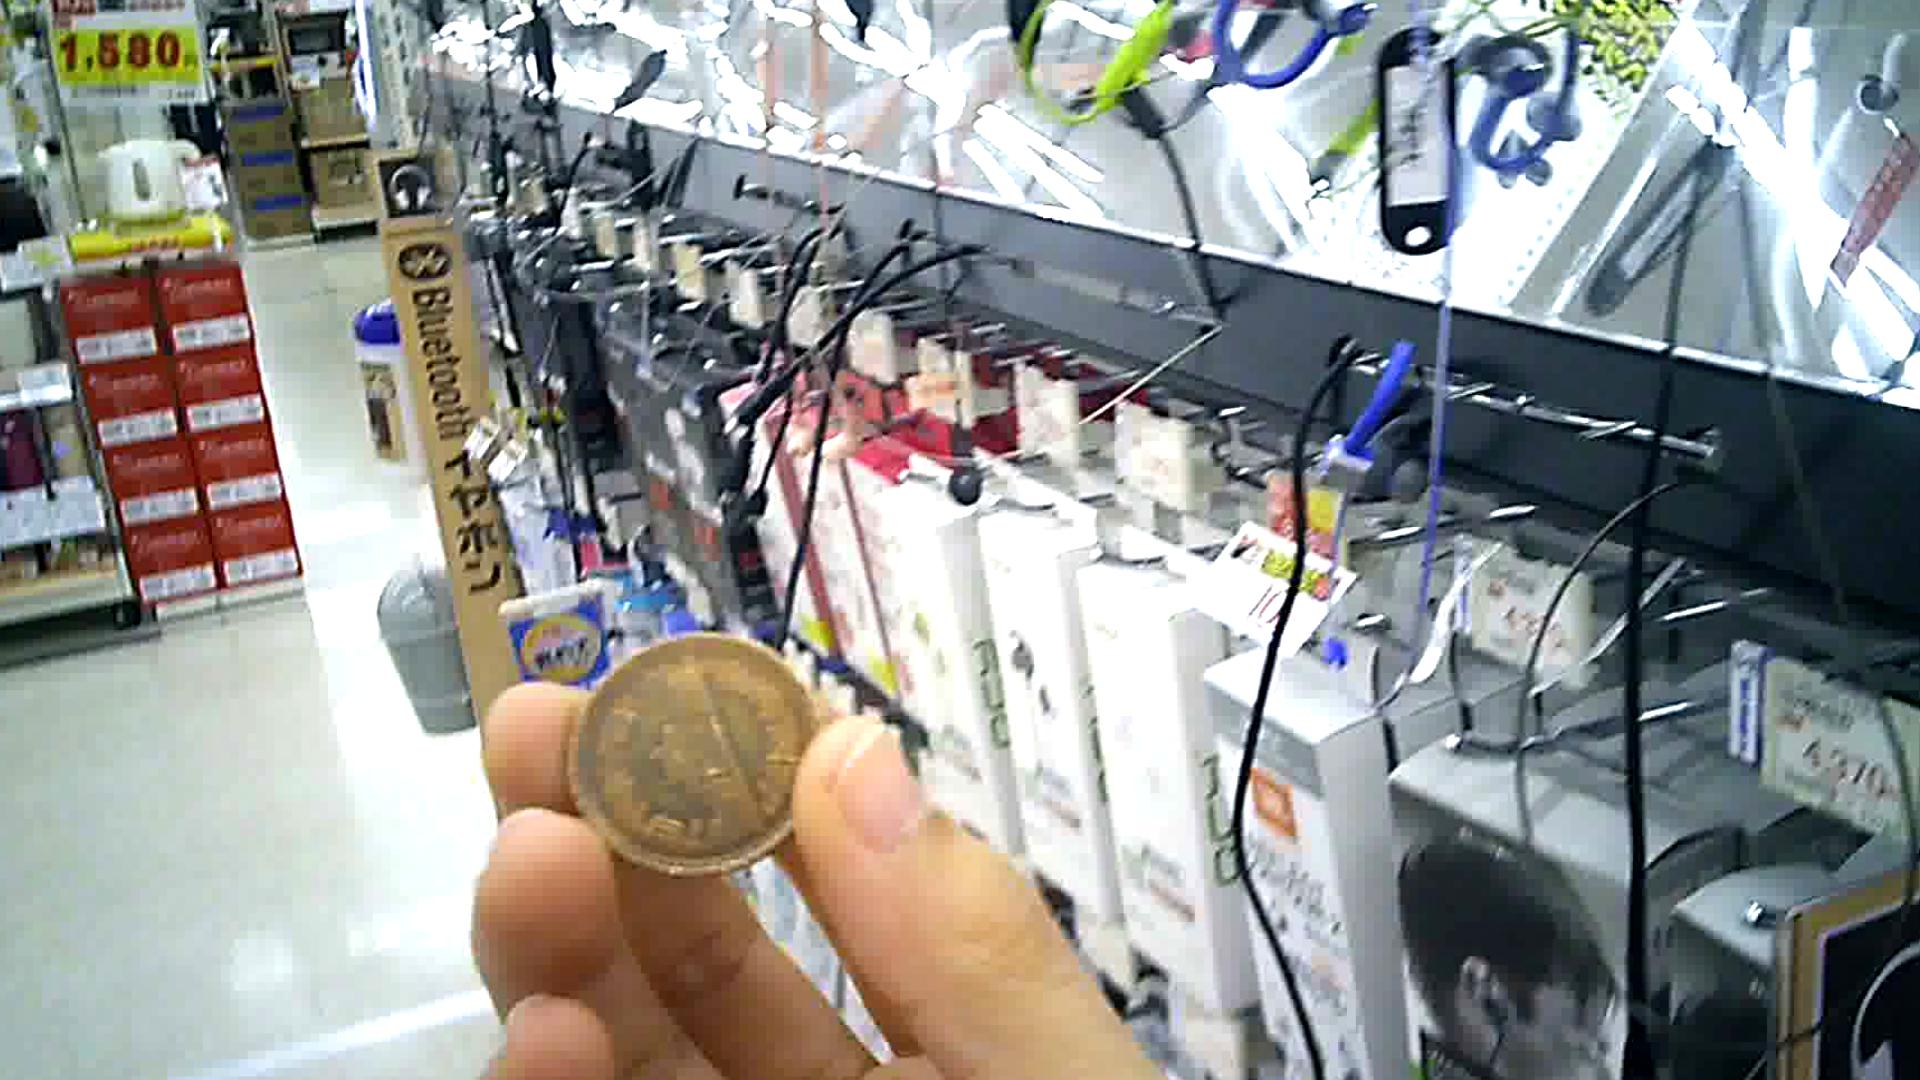10 Yen: (560, 630, 825, 880)
